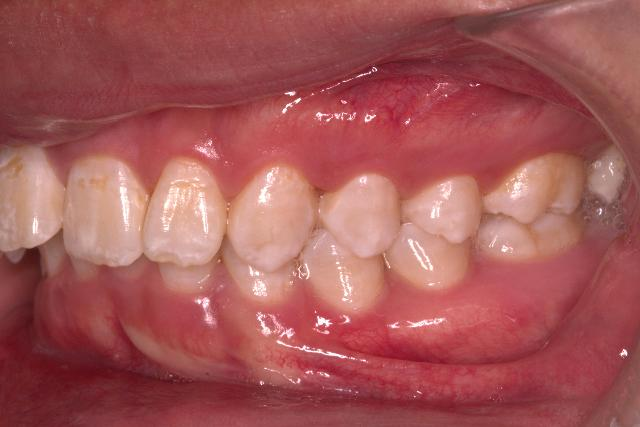canine class II 1/2: (221, 152, 385, 322)
molar class I: (478, 148, 590, 268)
